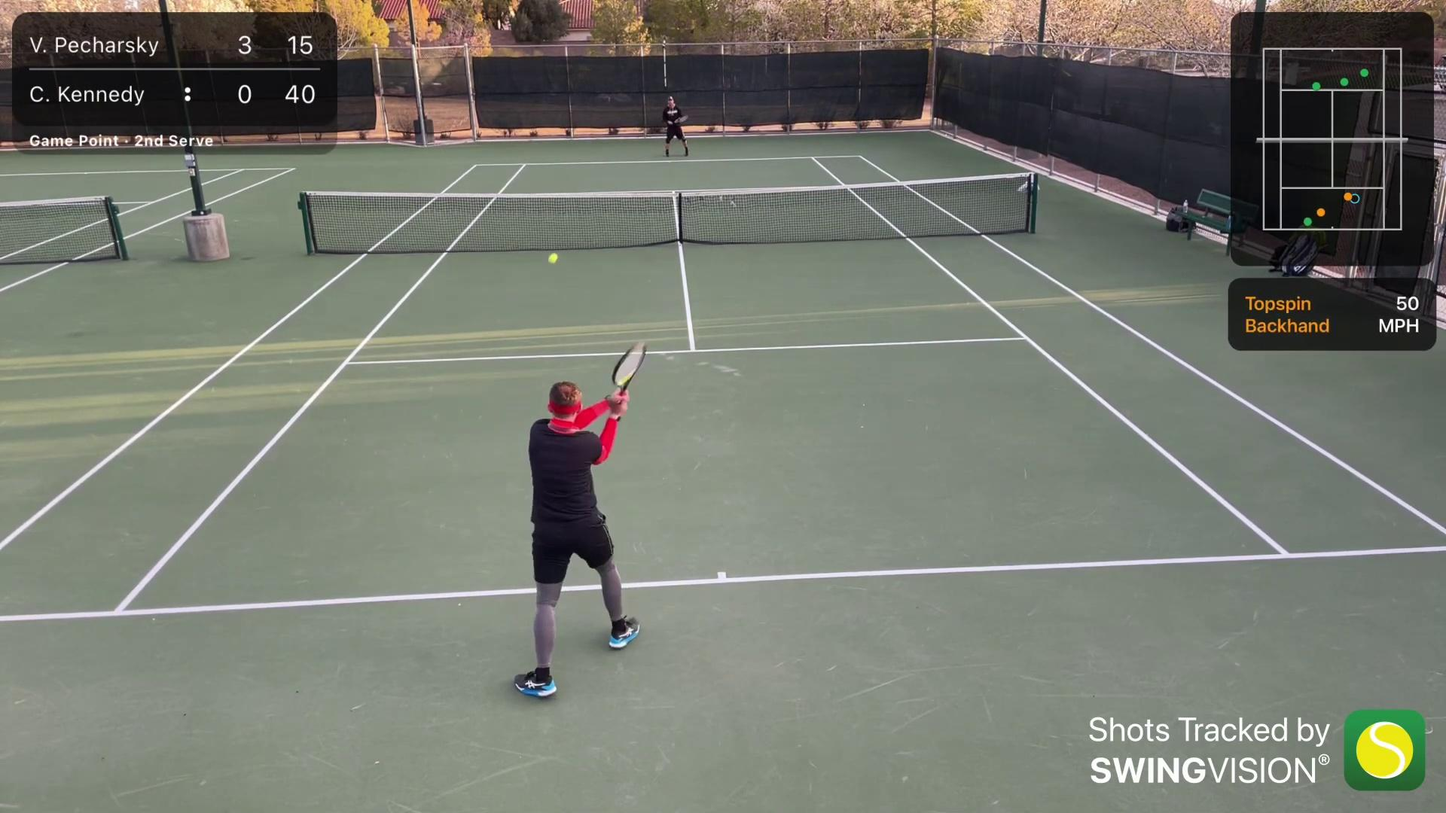ball: (545, 250, 561, 266)
